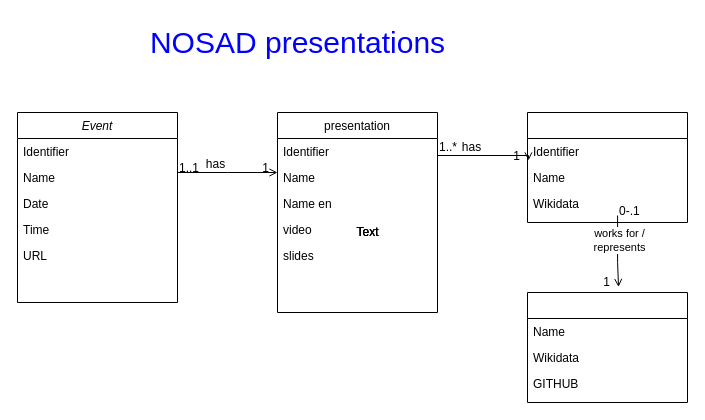
The diagram is 705 pixels wide and 420 high, and some of its shapes have lost their labels. The box of each missing label's shape, as (x1, y1, x2, y2) in pixels:
organisation: (526, 292, 688, 402)
presenter: (526, 112, 688, 222)
